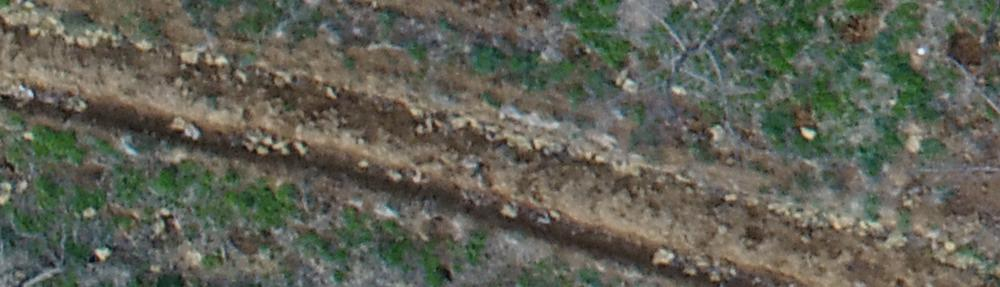apple: (602, 10, 765, 149)
